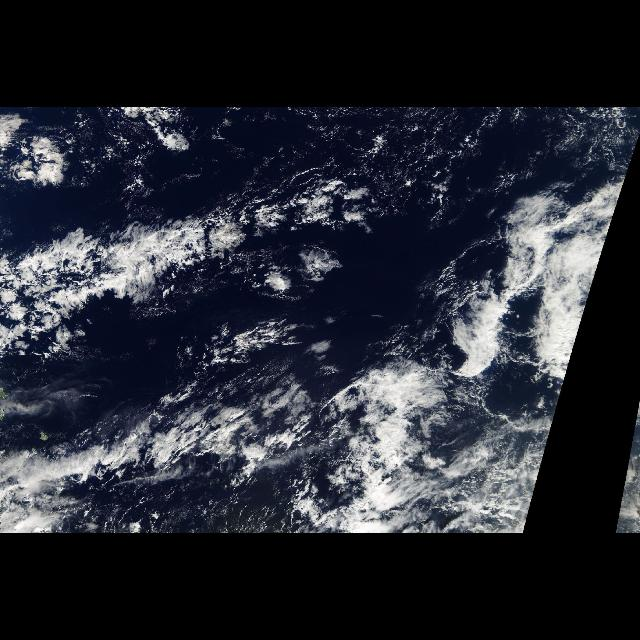Fish: (1, 149, 393, 503)
